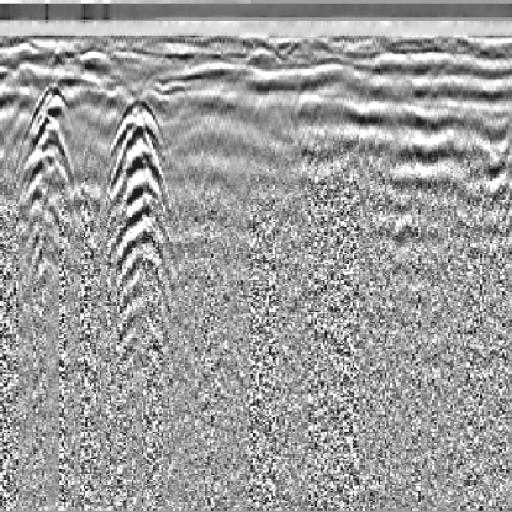non-metallic: (103, 94, 182, 322), (10, 79, 89, 287)
